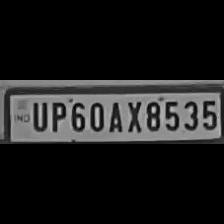0: (86, 98, 106, 132)
3: (180, 97, 198, 130)
5: (198, 96, 218, 132), (162, 97, 180, 131)
6: (66, 98, 86, 132)
8: (142, 97, 160, 132)
A: (106, 99, 124, 134)
P: (48, 98, 66, 132)
U: (28, 98, 46, 132)
X: (122, 99, 142, 134)
